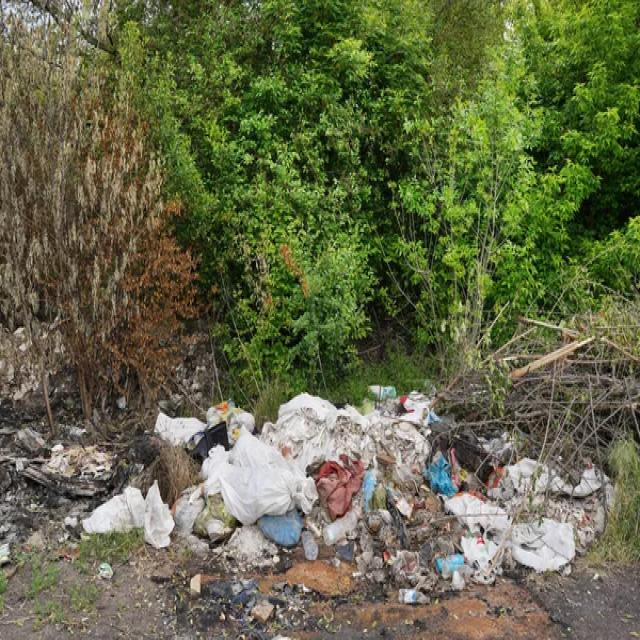garbage: (176, 369, 604, 606)
